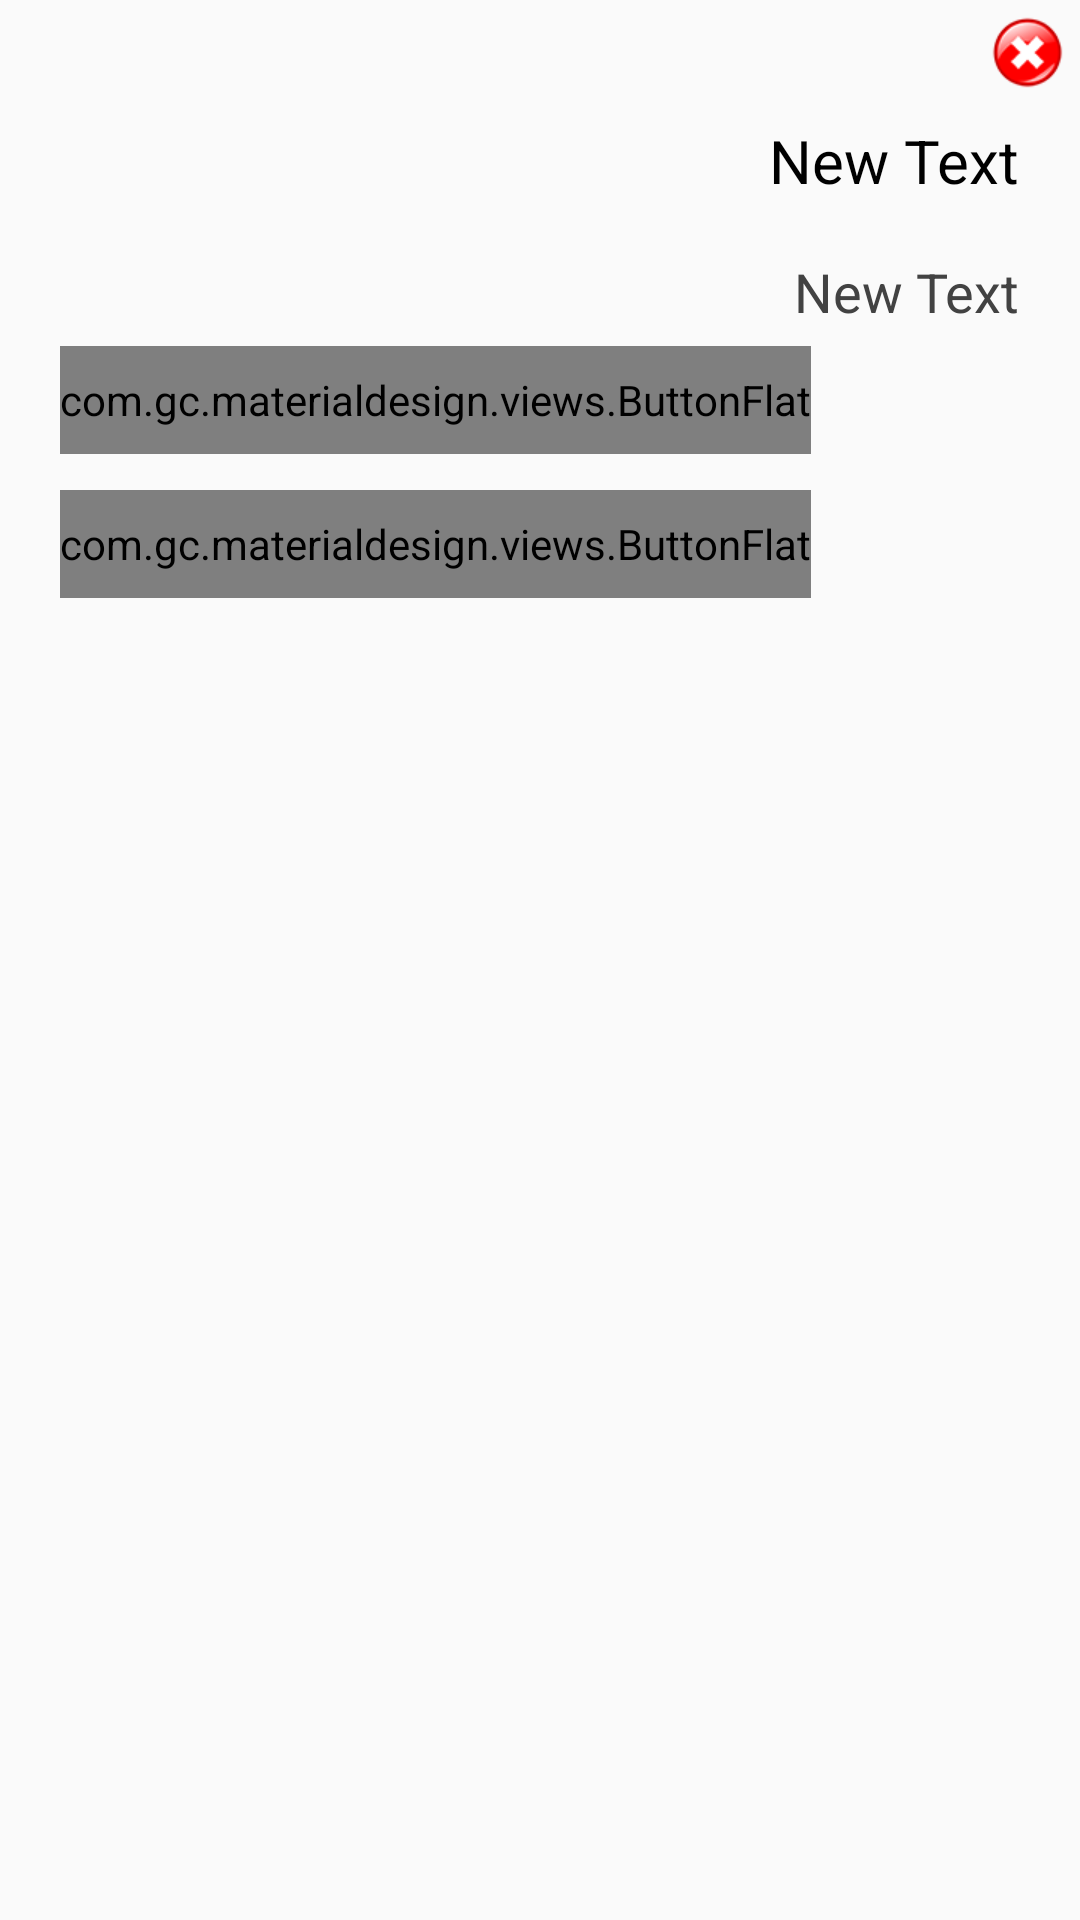

Screen size 1080*1920. Icon name, then its center in pixels as (x,y):
close: (1027,52)
